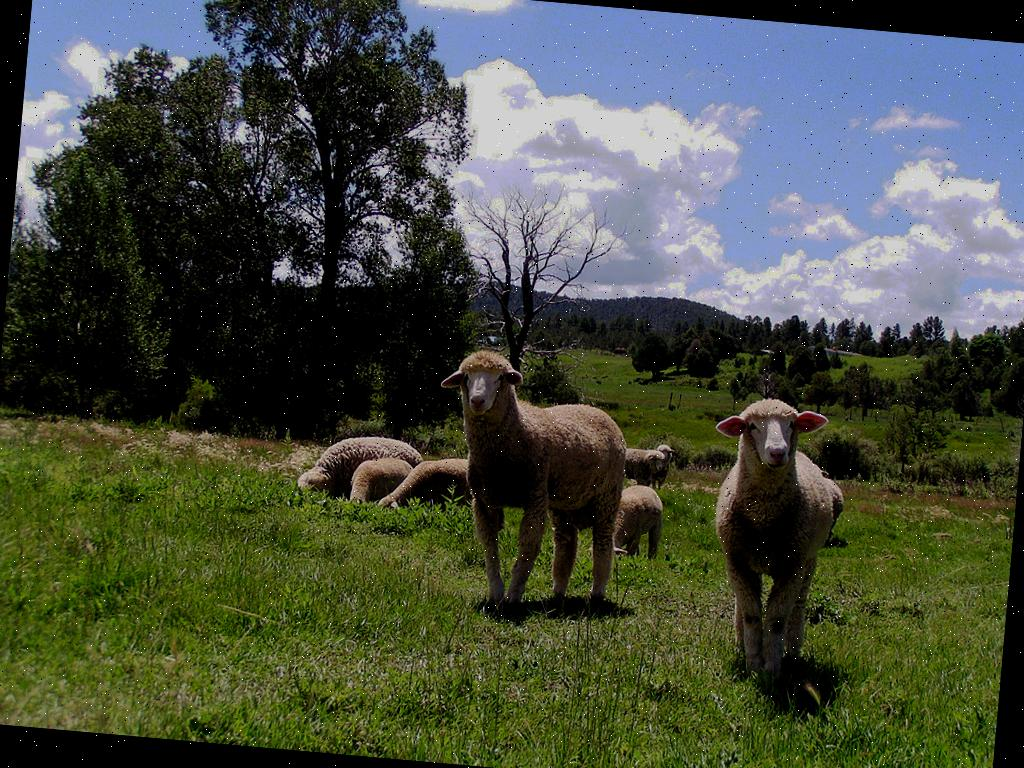Sheep: (414, 346, 639, 626), (690, 388, 848, 702), (289, 427, 424, 516), (371, 451, 475, 523), (599, 476, 670, 568), (339, 453, 420, 514), (616, 445, 666, 496), (636, 440, 676, 490)
